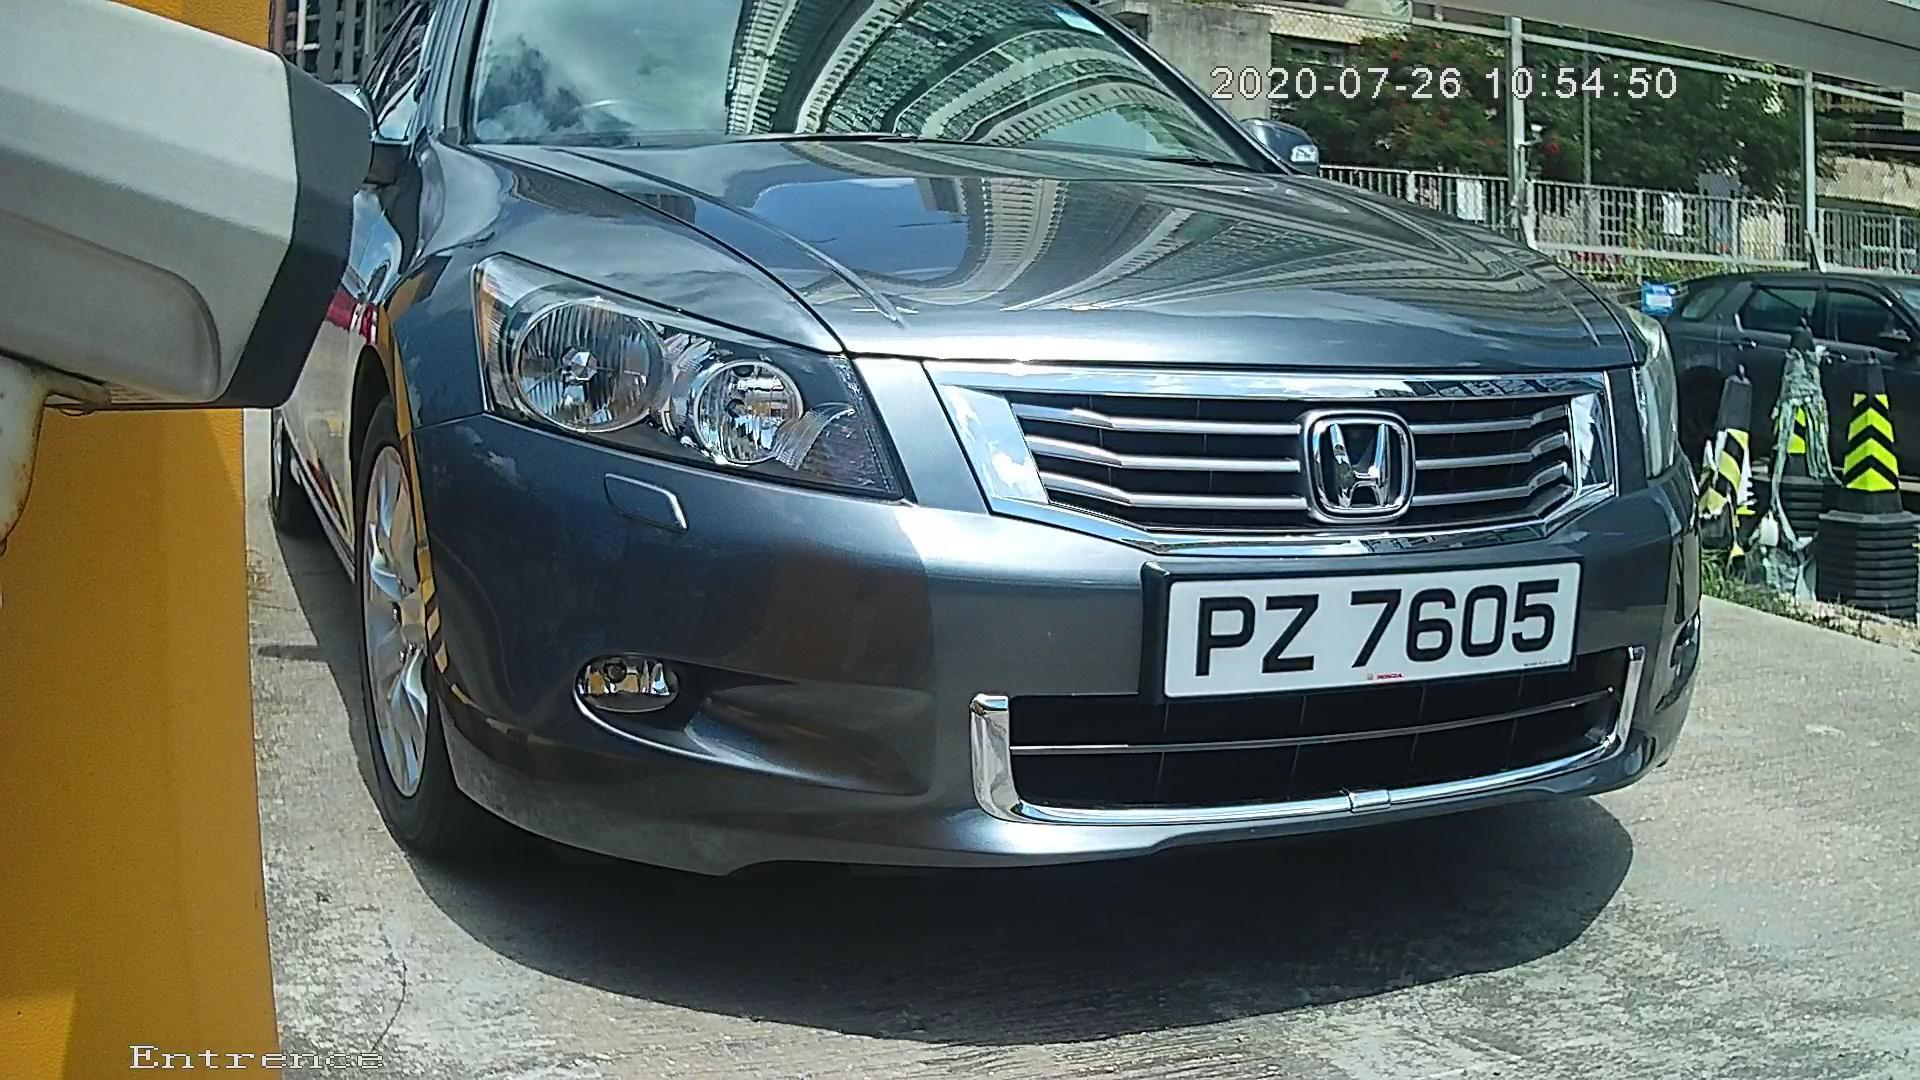privatecar: (241, 54, 1801, 913)
